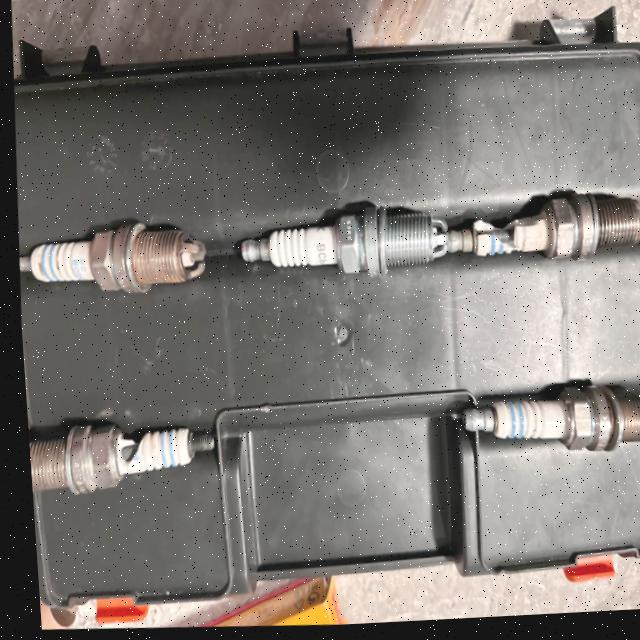damaged_spark-plug: (453, 182, 640, 279), (22, 413, 214, 505)
spark-plug: (224, 200, 443, 292), (12, 213, 203, 302), (449, 385, 640, 464)
